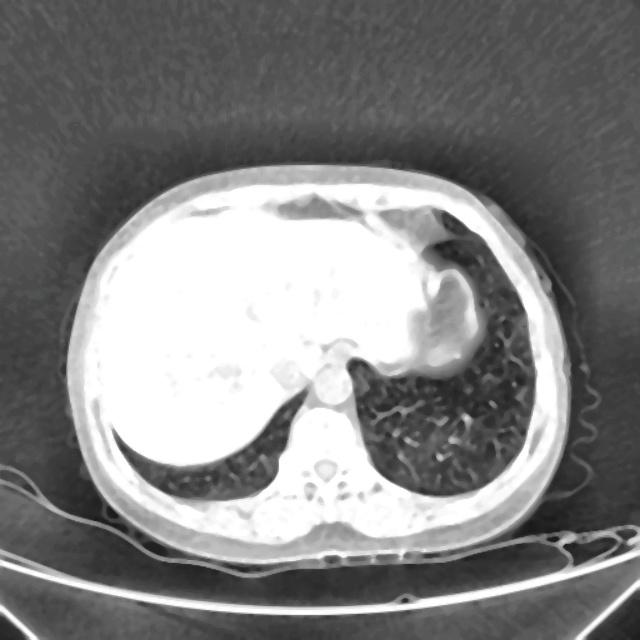covid: (65, 163, 573, 570)
